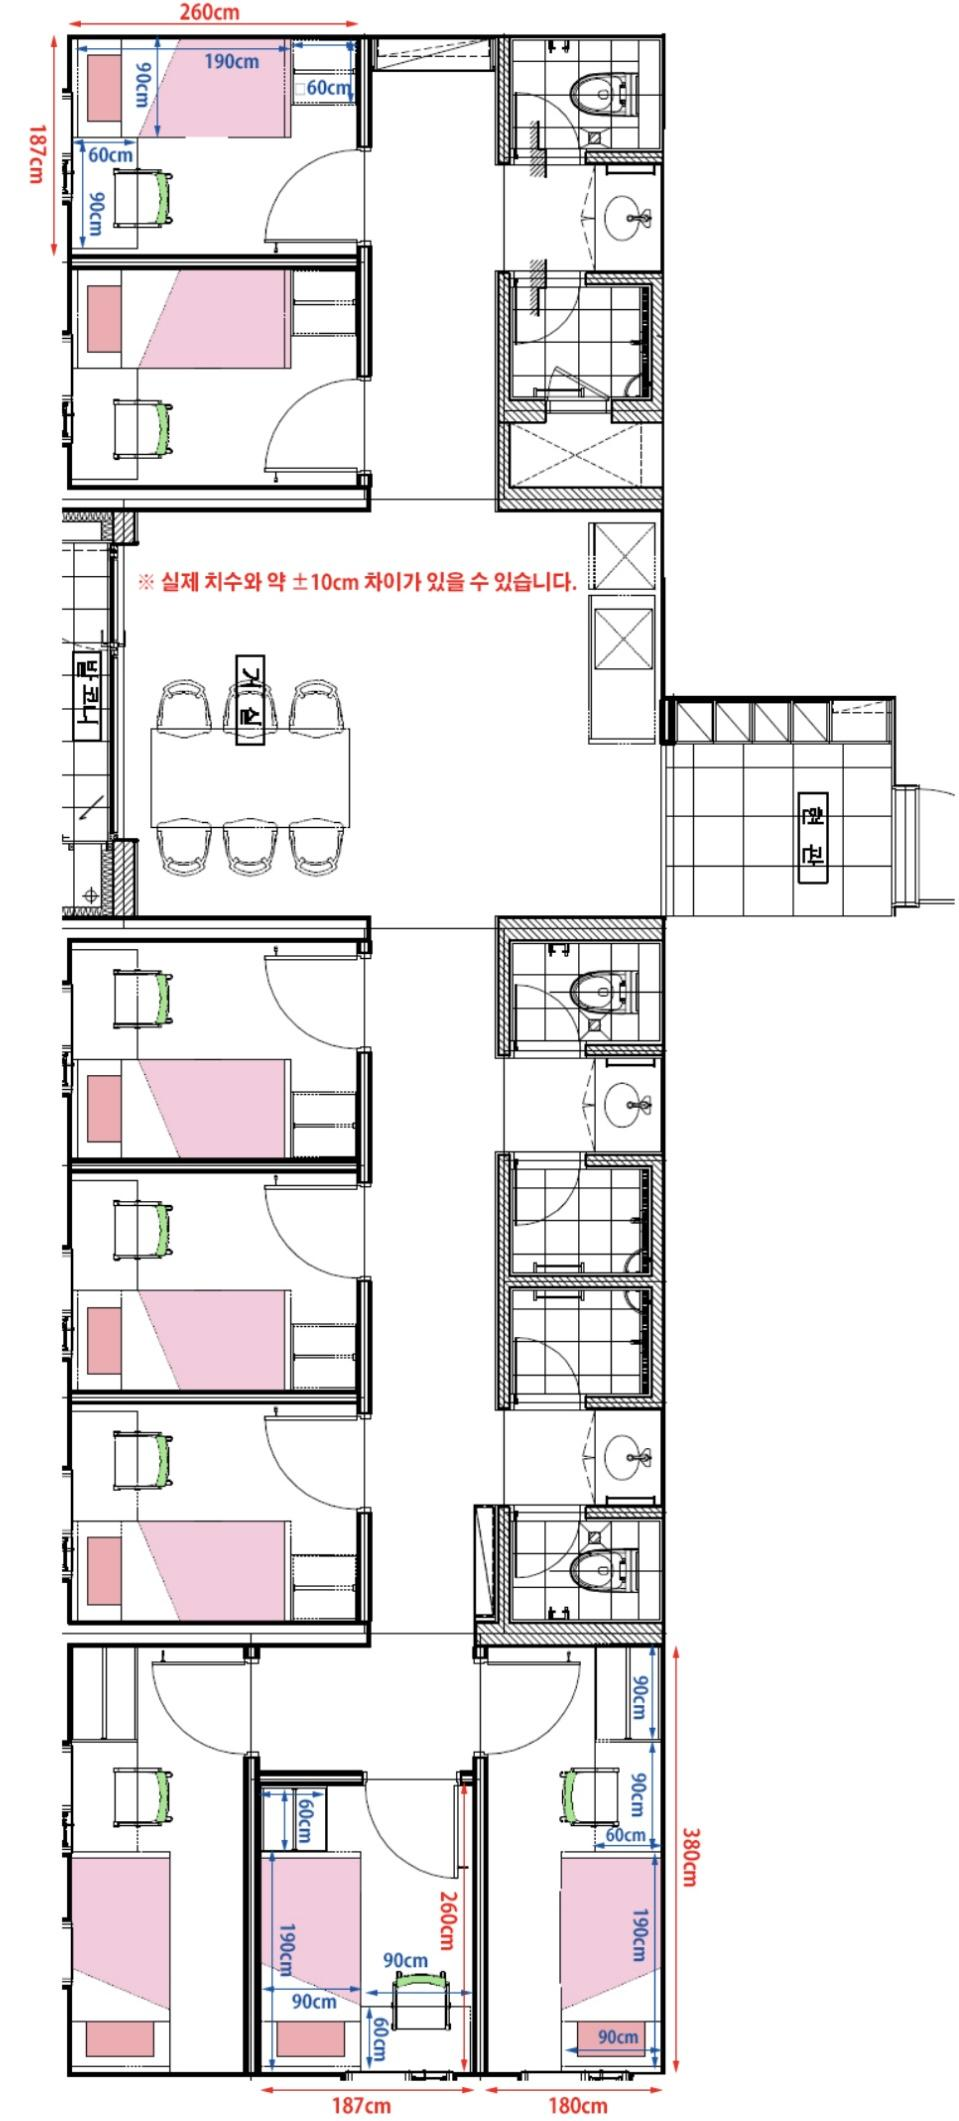room: (68, 1639, 249, 2075), (482, 1641, 663, 2074), (69, 260, 367, 495), (69, 1165, 365, 1396), (253, 1773, 479, 2075), (70, 939, 367, 1161), (72, 39, 365, 262), (70, 1401, 364, 1625), (502, 276, 657, 413), (502, 35, 659, 160), (502, 931, 659, 1054), (505, 1157, 656, 1280), (505, 1510, 659, 1630), (505, 1289, 657, 1405), (503, 413, 661, 498)
